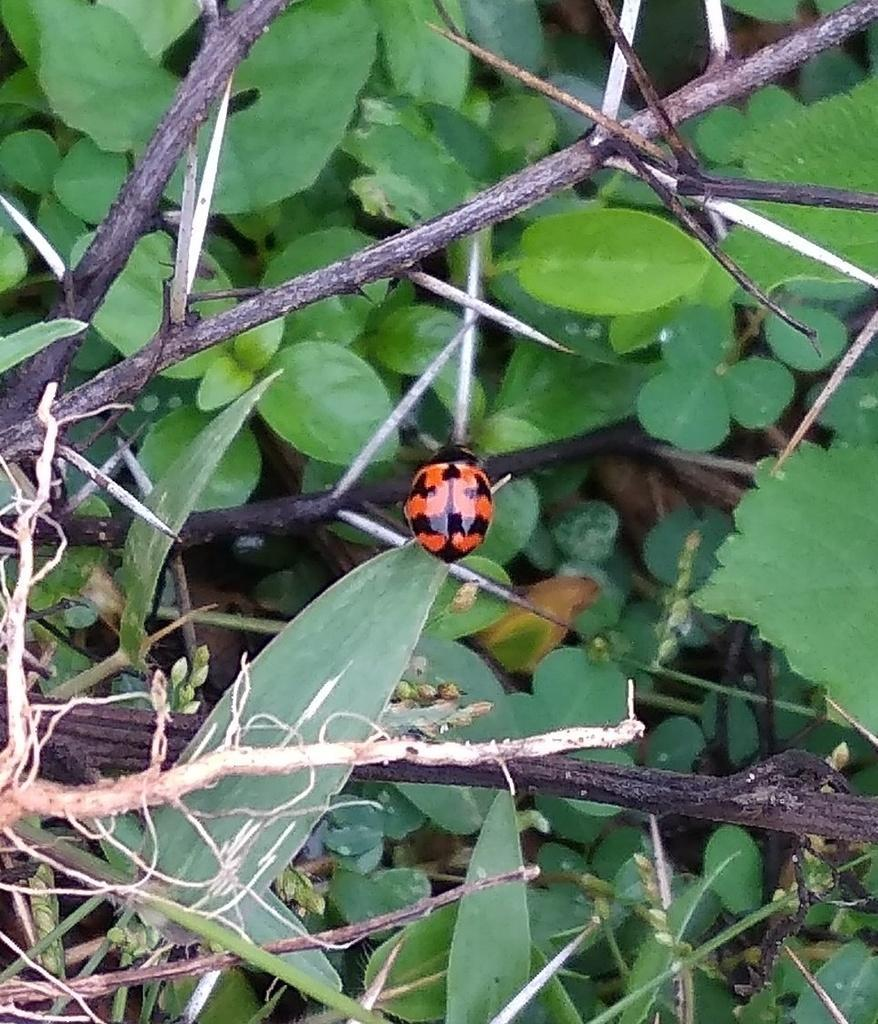ladybug: (401, 434, 501, 569)
